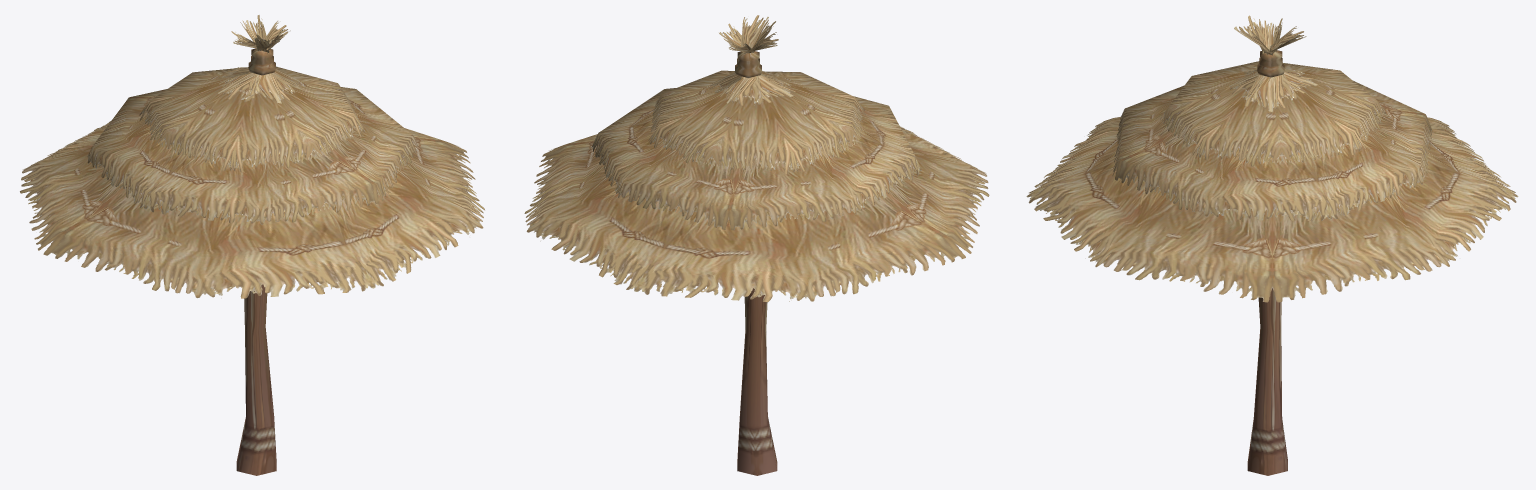
File: Map_05_umbrella01.FBX
3 views of the same model, side by side, from view 1: azimuth 30°, elevation 25°; view 2: azimuth 150°, elevation 25°; view 3: azimuth 270°, elevation 25° (orthographic).
Visible parts, largest first — view 1: Map_05_umbrella01b, Map_05_umbrella01a; view 2: Map_05_umbrella01b, Map_05_umbrella01a; view 3: Map_05_umbrella01b, Map_05_umbrella01a.
Part boxes in pixels (x1,y1,x2,y2): Map_05_umbrella01b: (20, 15, 484, 298); Map_05_umbrella01a: (236, 284, 276, 475); Map_05_umbrella01b: (524, 15, 989, 301); Map_05_umbrella01a: (737, 288, 777, 475); Map_05_umbrella01b: (1026, 15, 1518, 302); Map_05_umbrella01a: (1247, 288, 1287, 475).
Bounding box in the file's own units: 778 × 768 × 778.
